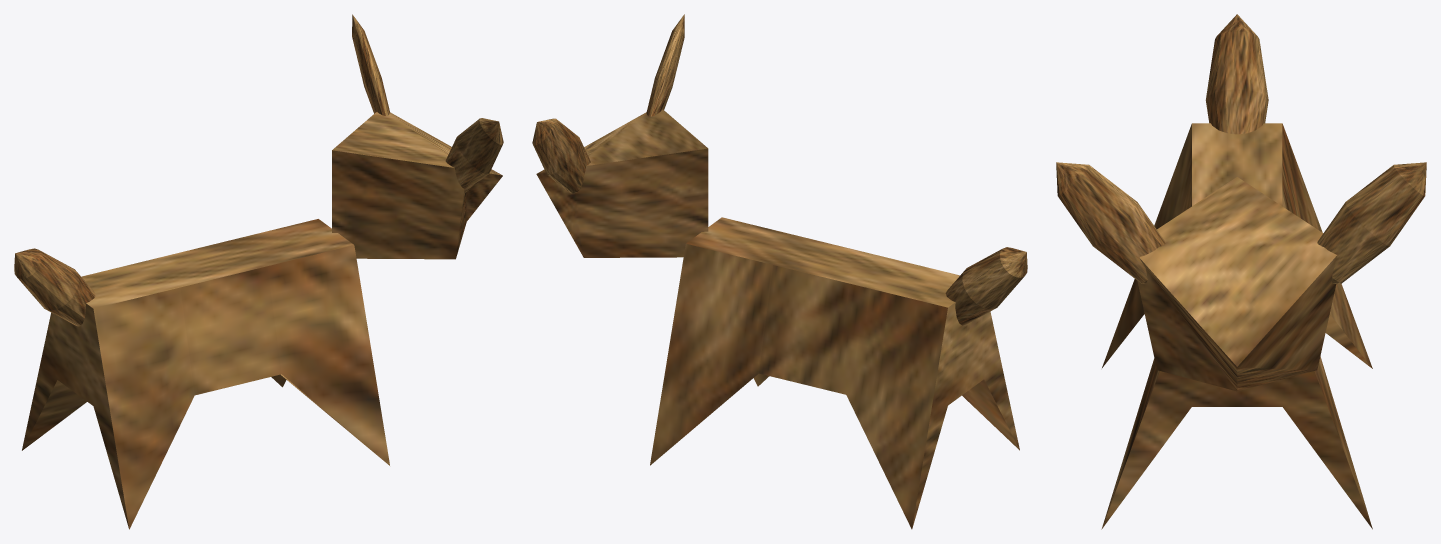
Rendered from BadDog.fbx.
The picture shows the model from 3 angles, left to right: view 1: azimuth 30°, elevation 25°; view 2: azimuth 150°, elevation 25°; view 3: azimuth 270°, elevation 25°; orthographic projection. The views are drawn at different scales.
Visible parts, largest first — view 1: Body, Head, Tail; view 2: Body, Head, Tail; view 3: Head, Body, Tail.
Part boxes in pixels (bbox=[...]): Body: bbox=[22, 219, 389, 529]; Head: bbox=[332, 14, 503, 259]; Tail: bbox=[14, 248, 95, 326]; Body: bbox=[650, 217, 1019, 529]; Head: bbox=[532, 14, 708, 257]; Tail: bbox=[945, 247, 1027, 325]; Head: bbox=[1056, 162, 1426, 391]; Body: bbox=[1101, 123, 1372, 529]; Tail: bbox=[1205, 14, 1268, 134].
Size of the model in its own units: 262 by 172 by 136.
